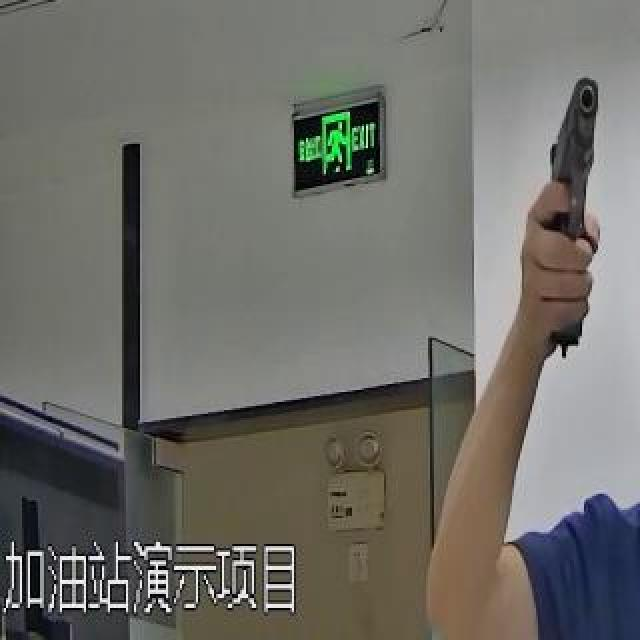Guns: (505, 42, 625, 394)
